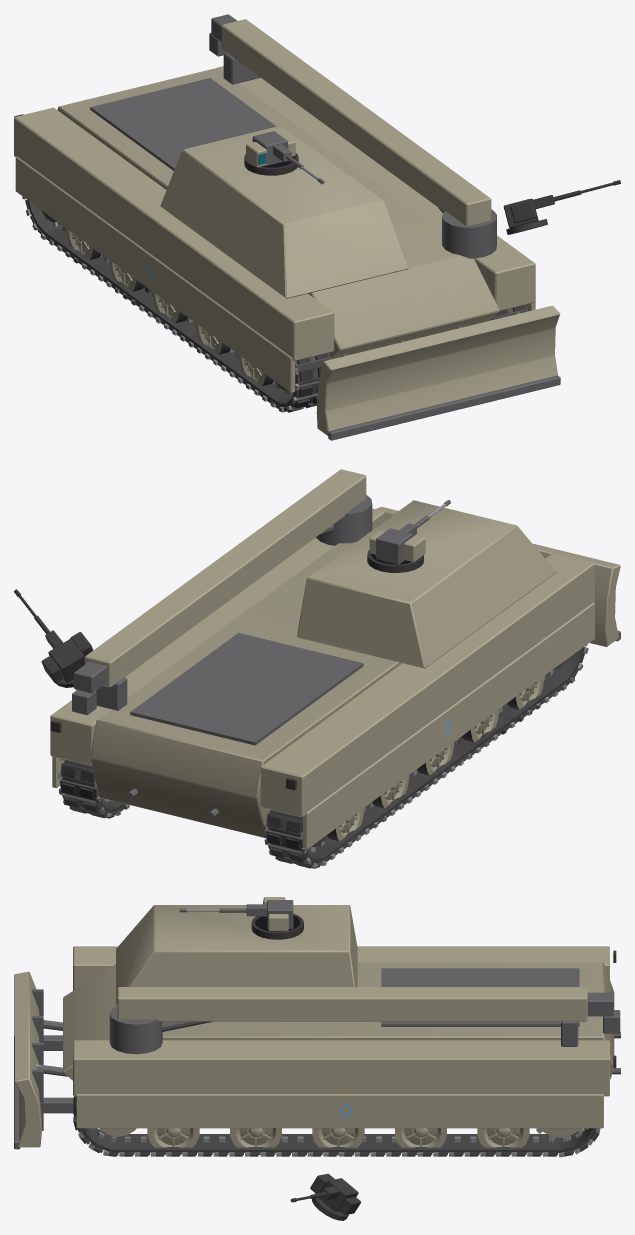
Rendered from recoveryVehicle__type_11_arv.glb.
3 renders of one model, top to bottom at view 1: azimuth 30°, elevation 25°; view 2: azimuth 150°, elevation 25°; view 3: azimuth 270°, elevation 25°, orthographic. The views are drawn at different scales.
Parts seen in each view (by area): view 1: Hull_Mesh, Track_L_Mesh, Wreck, Turret_Mesh; view 2: Hull_Mesh, Track_L_Mesh, Wreck, Track_R_Mesh, Turret_Mesh; view 3: Hull_Mesh, Track_R_Mesh, Wreck, Wheel_R4_Mesh, Wheel_R0_Mesh, Wheel_R2_Mesh, Wheel_R1_Mesh, Wheel_R3_Mesh, Turret_Mesh, Gun_Mesh.
Part boxes in pixels (x1,y1,x2,y2): Hull_Mesh: (14,14,560,440); Track_L_Mesh: (22,196,330,412); Wreck: (22,153,620,412); Turret_Mesh: (246,131,295,167); Hull_Mesh: (50,469,620,849); Track_L_Mesh: (263,645,588,868); Wreck: (14,550,586,868); Track_R_Mesh: (57,758,129,818); Turret_Mesh: (369,528,425,564); Hull_Mesh: (14,905,620,1149); Track_R_Mesh: (73,1096,600,1157); Wreck: (73,913,597,1220); Wheel_R4_Mesh: (147,1128,199,1154); Wheel_R0_Mesh: (477,1128,529,1154); Wheel_R2_Mesh: (312,1128,364,1155); Wheel_R1_Mesh: (395,1128,446,1154); Wheel_R3_Mesh: (230,1128,281,1154); Turret_Mesh: (263,897,293,931); Gun_Mesh: (179,904,266,916).
Size of what is drawn, in the model's own units: 6.3 by 2.58 by 7.8.
